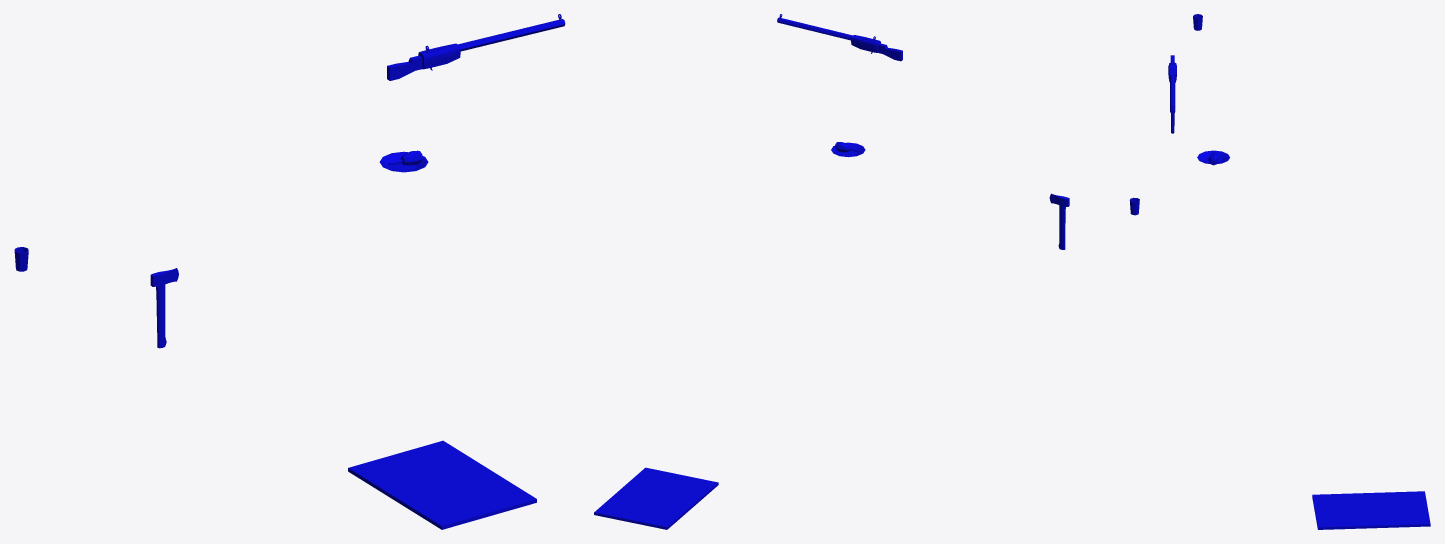
The model's file is interior_interactable.fbx.
3 views of the same model, side by side, from view 1: azimuth 30°, elevation 25°; view 2: azimuth 150°, elevation 25°; view 3: azimuth 270°, elevation 25° (orthographic). The views are drawn at different scales.
Parts seen in each view (by area): view 1: carpet, Rifle, Axe; view 2: carpet, Rifle; view 3: carpet, Rifle.
Part boxes in pixels (left/top/right/bottom): carpet: left=348, top=440, right=536, bottom=529; Rifle: left=387, top=14, right=565, bottom=80; Axe: left=150, top=268, right=178, bottom=348; carpet: left=594, top=467, right=718, bottom=529; Rifle: left=777, top=14, right=902, bottom=61; carpet: left=1312, top=491, right=1430, bottom=529; Rifle: left=1168, top=55, right=1176, bottom=114.
Bounding box in the file's own units: 1.79 × 1.65 × 0.9833.
